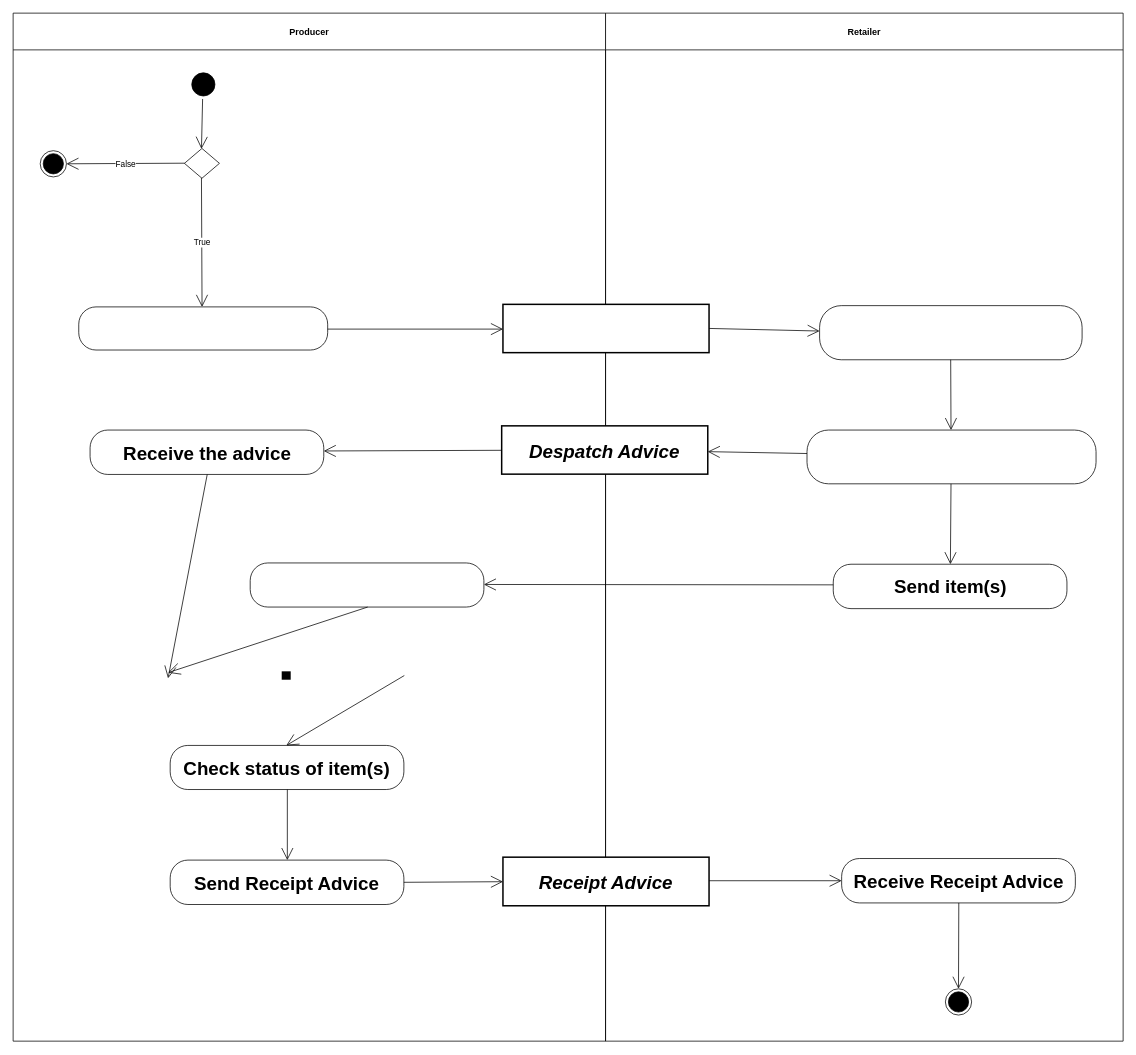
This 1136x1055 diagram has some shape labels left out. The shapes that lost their labels are listed below. From the top down, each one's centre as x and y in pixels, then its label:
the point at 203,328: Send Instruction for Returns
the point at 605,328: Instruction for Returns
the point at 950,332: Receive Instruction for Returns
the point at 951,456: Send an advice to notify the return
the point at 366,584: Receive the return item(s)
